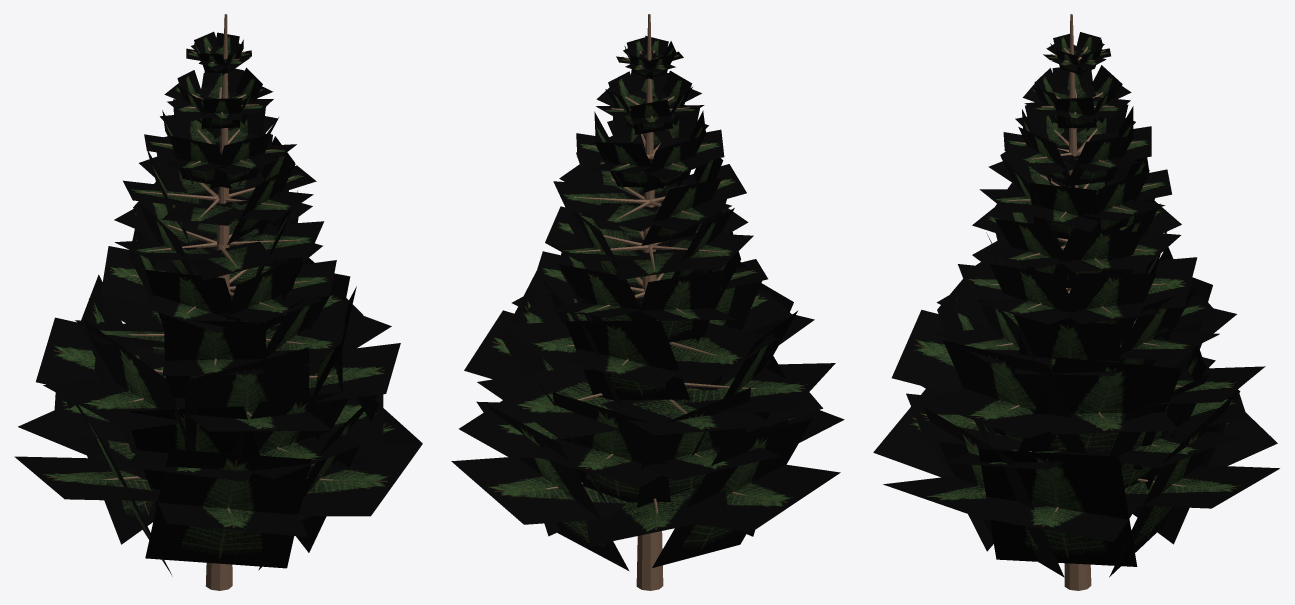
File: ponderosa-0.glb
3 renders of one model, left to right at view 1: azimuth 30°, elevation 25°; view 2: azimuth 150°, elevation 25°; view 3: azimuth 270°, elevation 25°, orthographic.
Visible parts, largest first — view 1: Pine needle spray.009, Pine needle spray.027, Pine needle spray.010, Pine needle spray.047, Pine needle spray.006, Pine needle spray.017, Pine needle spray.024, Pine needle spray.028, Pine needle spray.008, Pine needle spray.025, Pine needle spray.034, Pine needle spray.019 (+51 smaller); view 2: Pine needle spray.007, Pine needle spray.043, Pine needle spray.002, Pine needle spray.032, Pine needle spray.013, Pine needle spray.006, Pine needle spray.004, Pine needle spray.024, Pine needle spray.015, Pine needle spray.044, Pine needle spray.053, Pine needle spray.003 (+48 smaller); view 3: Pine needle spray.001, Pine needle spray.031, Pine needle spray.029, Pine needle spray.002, Pine needle spray.039, Pine needle spray.026, Pine needle spray.011, Pine needle spray, Pine needle spray.049, Pine needle spray.003, Pine needle spray.028, Pine needle spray.010 (+50 smaller).
Part boxes in pixels (left/top/right/bottom): Pine needle spray.009: left=145, top=449, right=311, bottom=568; Pine needle spray.027: left=184, top=347, right=309, bottom=450; Pine needle spray.010: left=291, top=444, right=422, bottom=516; Pine needle spray.047: left=164, top=320, right=266, bottom=397; Pine needle spray.006: left=14, top=456, right=156, bottom=501; Pine needle spray.017: left=127, top=406, right=259, bottom=505; Pine needle spray.024: left=43, top=376, right=185, bottom=430; Pine needle spray.028: left=309, top=343, right=400, bottom=402; Pine needle spray.008: left=151, top=488, right=307, bottom=536; Pine needle spray.025: left=83, top=319, right=192, bottom=450; Pine needle spray.034: left=36, top=317, right=165, bottom=384; Pine needle spray.019: left=230, top=392, right=348, bottom=468; Pine needle spray.007: left=652, top=418, right=812, bottom=567; Pine needle spray.043: left=565, top=321, right=690, bottom=399; Pine needle spray.002: left=451, top=457, right=627, bottom=524; Pine needle spray.032: left=477, top=369, right=620, bottom=439; Pine needle spray.013: left=552, top=392, right=670, bottom=502; Pine needle spray.006: left=695, top=464, right=840, bottom=532; Pine needle spray.004: left=586, top=486, right=728, bottom=545; Pine needle spray.024: left=673, top=363, right=835, bottom=413; Pine needle spray.015: left=637, top=387, right=751, bottom=507; Pine needle spray.044: left=670, top=323, right=777, bottom=384; Pine needle spray.053: left=636, top=269, right=725, bottom=342; Pine needle spray.003: left=487, top=405, right=629, bottom=571; Pine needle spray.001: left=978, top=449, right=1137, bottom=566; Pine needle spray.031: left=1018, top=357, right=1182, bottom=469; Pine needle spray.029: left=943, top=340, right=1087, bottom=454; Pine needle spray.002: left=1124, top=465, right=1279, bottom=508; Pine needle spray.039: left=1018, top=317, right=1120, bottom=362; Pine needle spray.026: left=891, top=309, right=961, bottom=392; Pine needle spray.011: left=923, top=406, right=1064, bottom=577; Pine needle spray: left=974, top=496, right=1137, bottom=542; Pine needle spray.049: left=1061, top=273, right=1156, bottom=340; Pine needle spray.003: left=1109, top=394, right=1234, bottom=577; Pine needle spray.028: left=921, top=388, right=1049, bottom=438; Pine needle spray.010: left=883, top=476, right=1056, bottom=514.
Size of the model in its own units: 7.65 by 12 by 7.75.
Materials: 2 (1 with a texture image).
